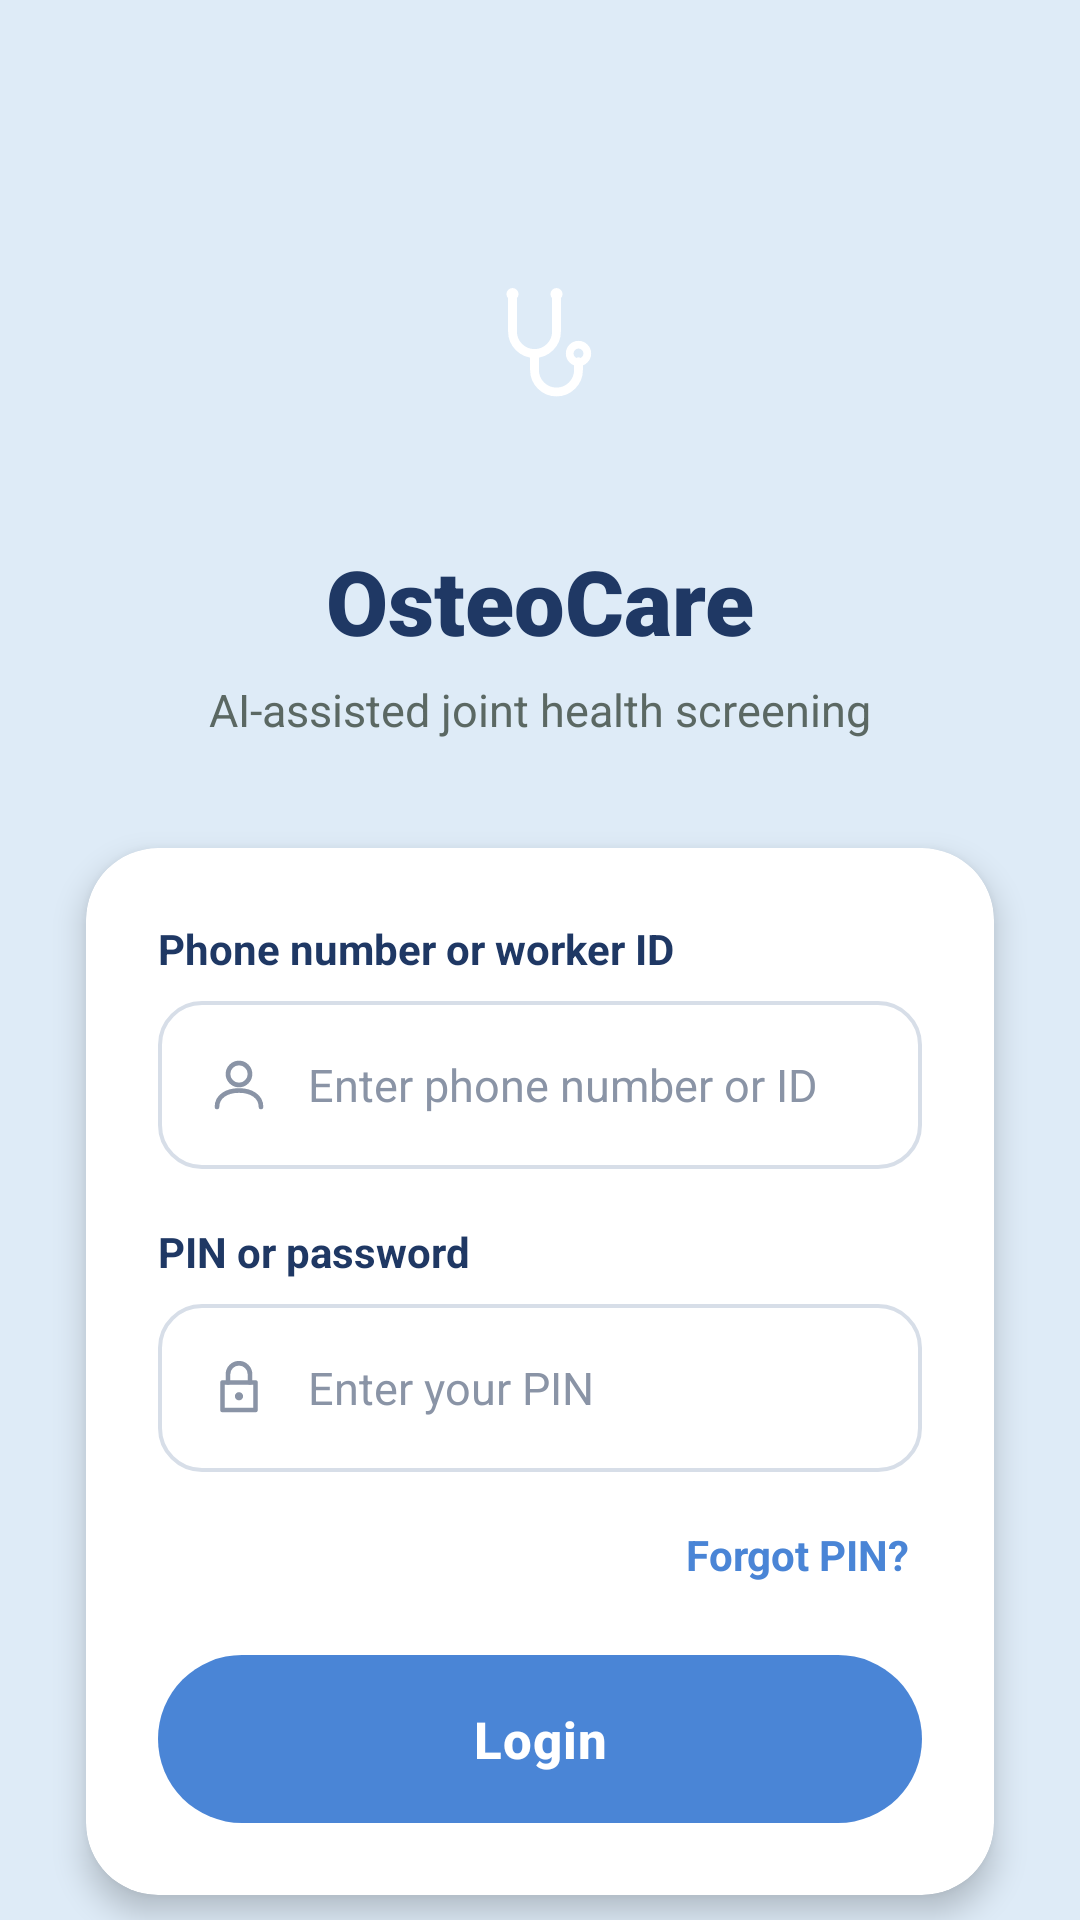

Locate icon controls on the screen. Image size 1080×1920, boxes as (x1, y1, x2, y2).
stethoscope: (507, 288, 591, 396)
